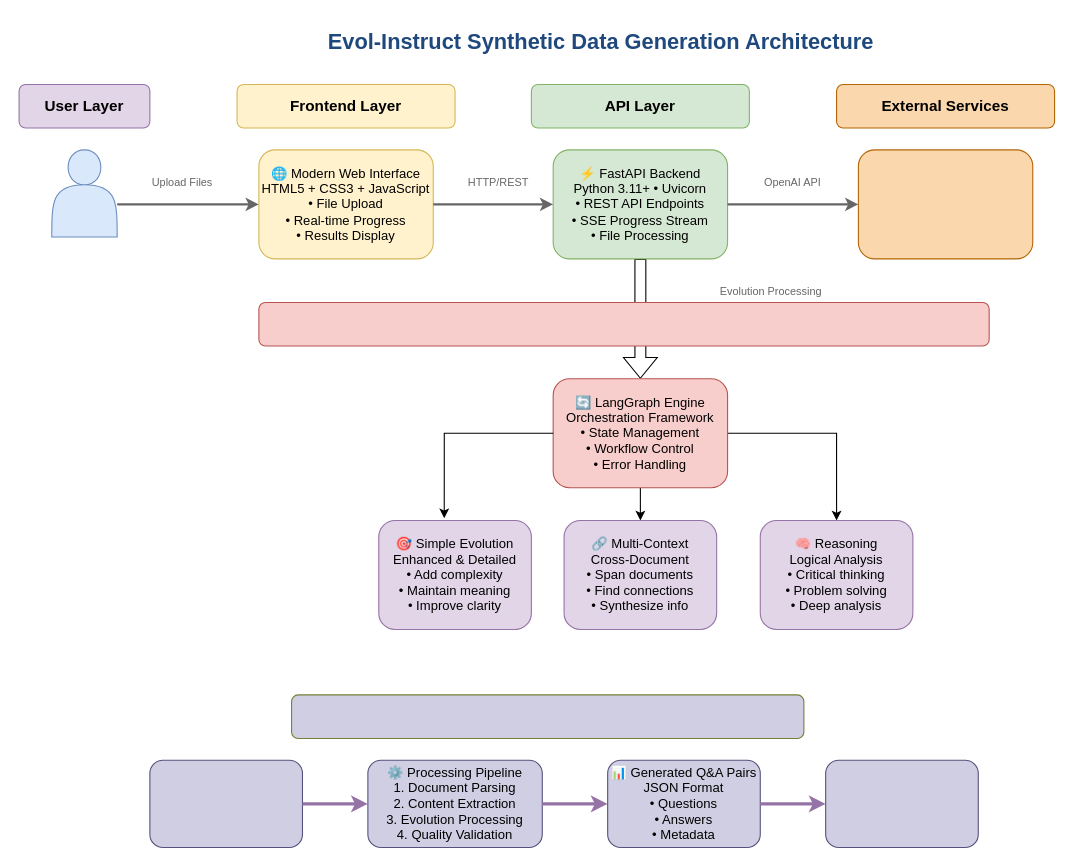
Image size: 1074x867. Some labels were removed from this diagram. The shapes that lost their labels are listed below. From the top down, each one's centre as x and y in pixels, then its label:
At (84,193): "👤 User".
At (945,204): "🤖 OpenAI API GPT-4o-mini • Question Generation • Text Processing • Embeddings".
At (623,323): "AI Processing Layer".
At (547,716): "Data Flow".
At (225,803): "📄 Input Documents PDF • TXT • CSV Max 10 files, 2MB each".
At (901,803): "📡 Server-Sent Events Real-time Progress • Status Updates • Error Handling".
